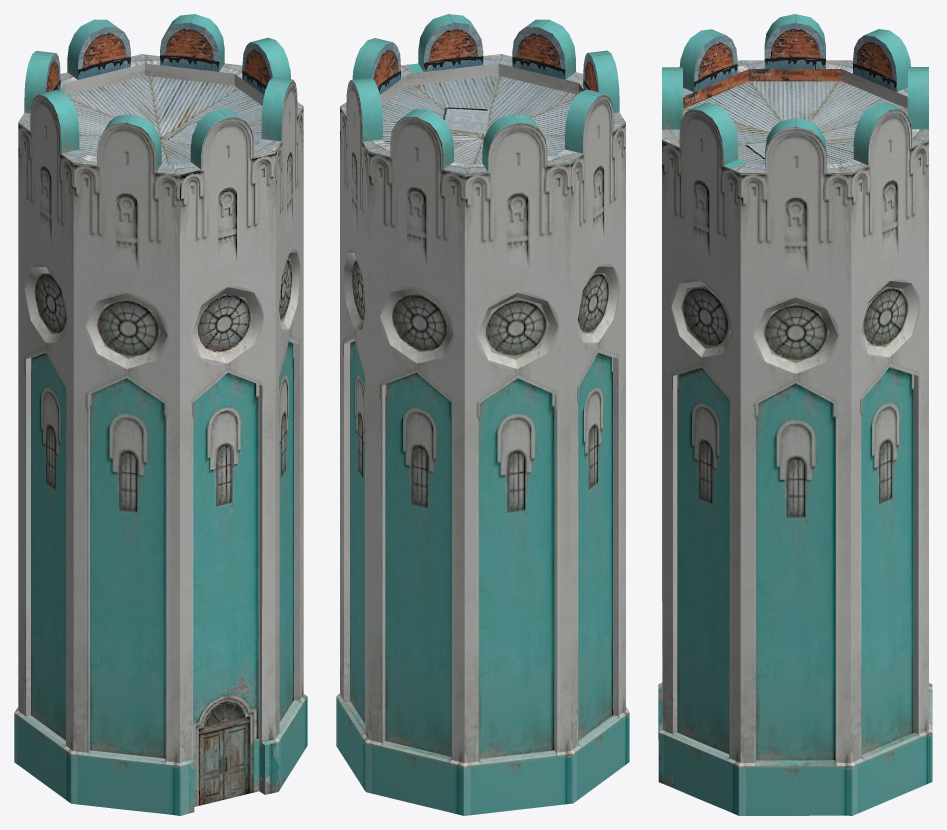
File: Railway Station Water Tower.fbx
The picture shows the model from 3 angles, left to right: view 1: azimuth 30°, elevation 25°; view 2: azimuth 150°, elevation 25°; view 3: azimuth 270°, elevation 25°; orthographic projection.
Visible parts, largest first — view 1: Railway Station Water Tower; view 2: Railway Station Water Tower; view 3: Railway Station Water Tower.
Boxes of the visible parts, <box> form: Railway Station Water Tower: <box>14,14,307,815</box>; Railway Station Water Tower: <box>336,14,629,815</box>; Railway Station Water Tower: <box>658,14,932,815</box>.
Bounding box in the file's own units: 713 × 1972 × 713.
Materials: 1 (1 with a texture image).
